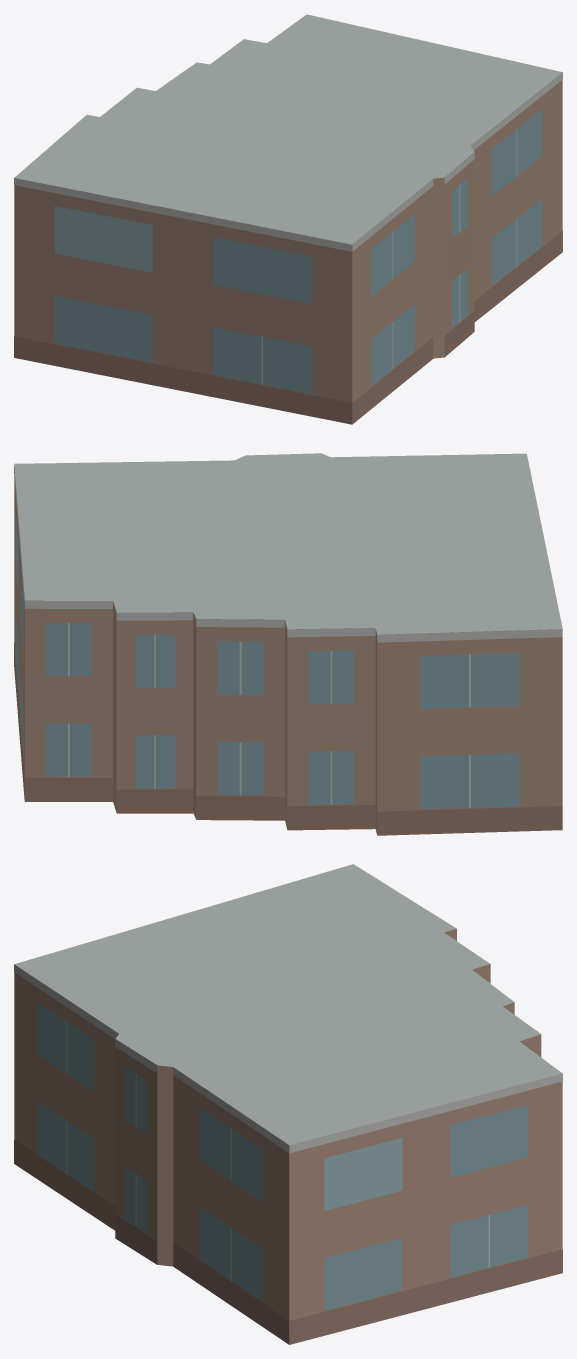
File: survey-upis-32625350.glb
3 renders of one model, top to bottom at view 1: azimuth 30°, elevation 25°; view 2: azimuth 150°, elevation 25°; view 3: azimuth 270°, elevation 25°, orthographic. The views are drawn at different scales.
Visible parts, largest first — view 1: survey-upis-32625350.tmp; view 2: survey-upis-32625350.tmp; view 3: survey-upis-32625350.tmp.
Boxes of the visible parts, x1=… form: survey-upis-32625350.tmp: x1=14, y1=14, x2=562, y2=424; survey-upis-32625350.tmp: x1=14, y1=453, x2=562, y2=835; survey-upis-32625350.tmp: x1=14, y1=864, x2=562, y2=1344.
Size of the model in its own units: 18.46 by 6.1 by 15.21.
